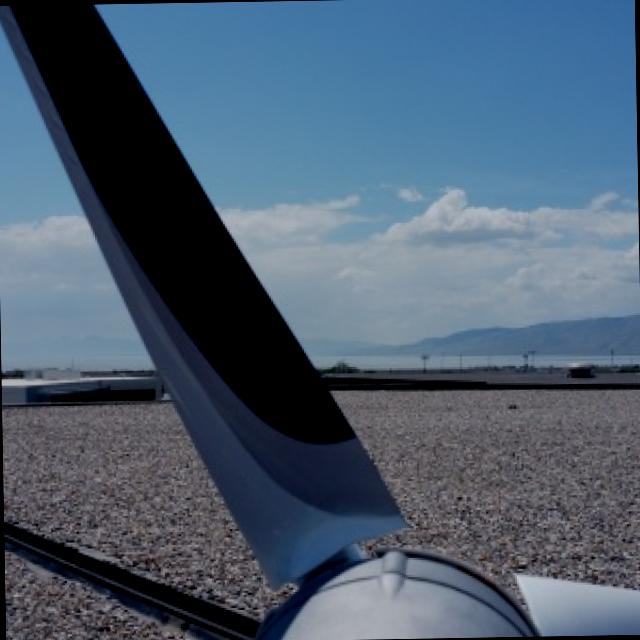healthy: (0, 4, 640, 639)
